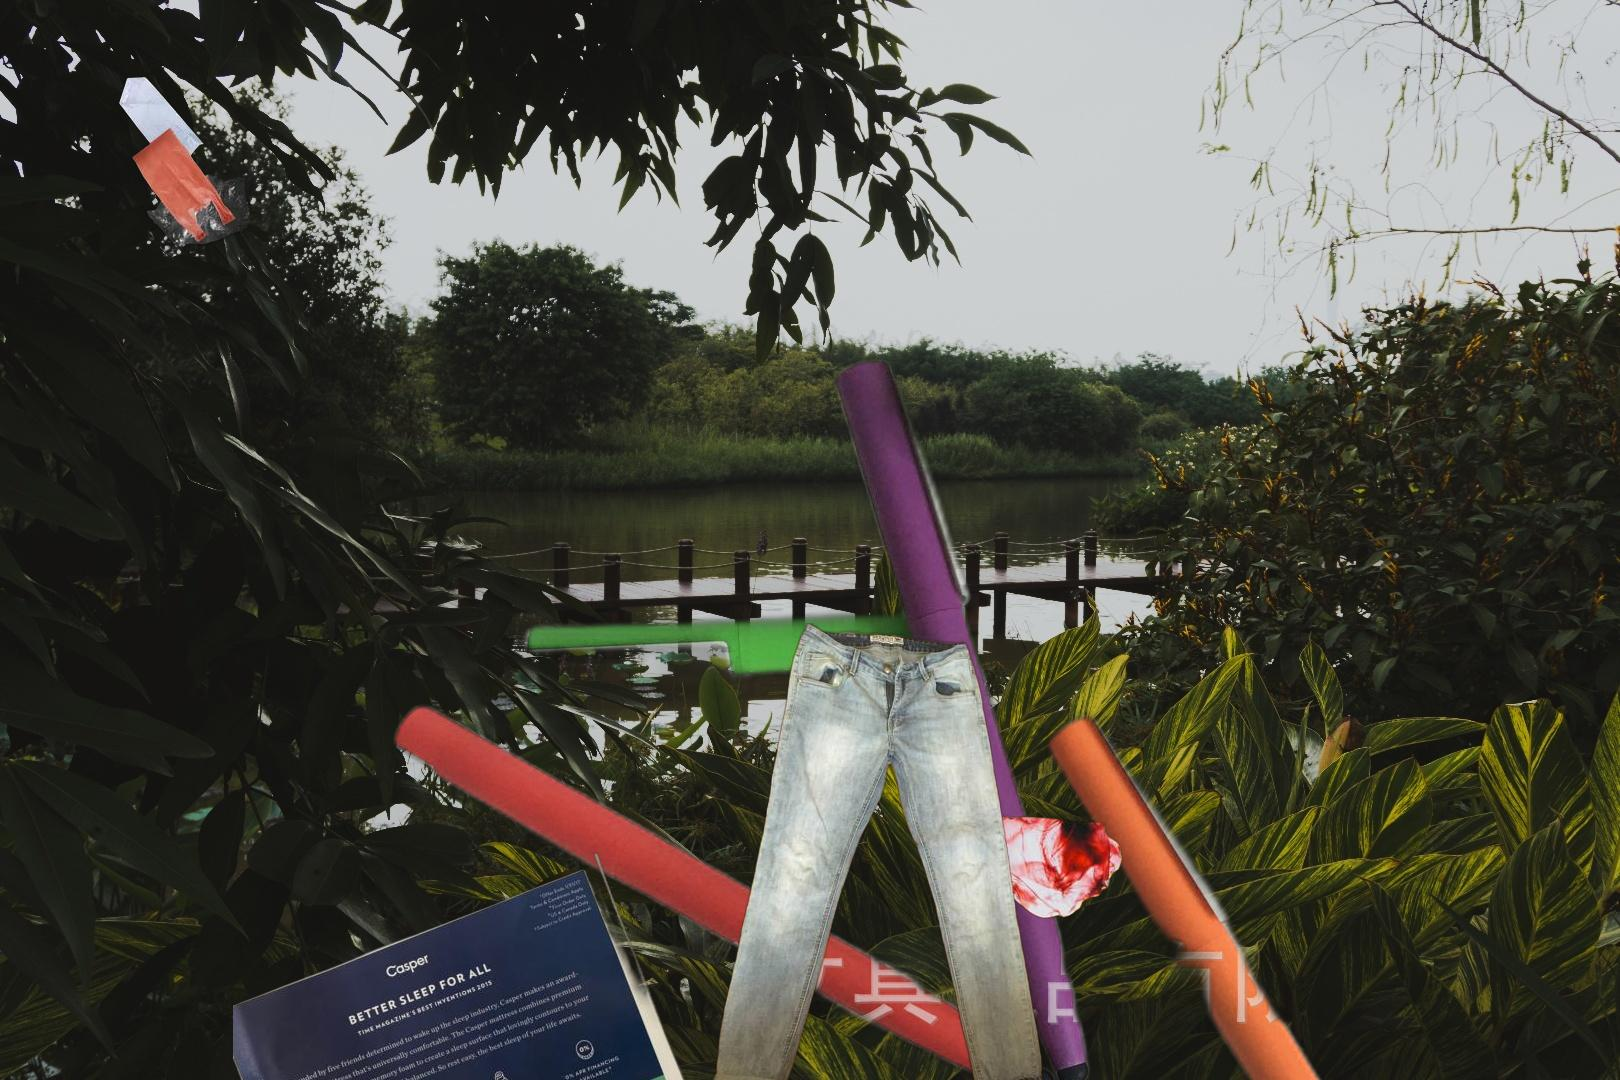clothes: (708, 623, 1047, 1080)
paper: (233, 850, 699, 1080)
penholder: (381, 303, 1499, 1080)
plastic-bag: (118, 76, 253, 250), (970, 812, 1125, 921)
